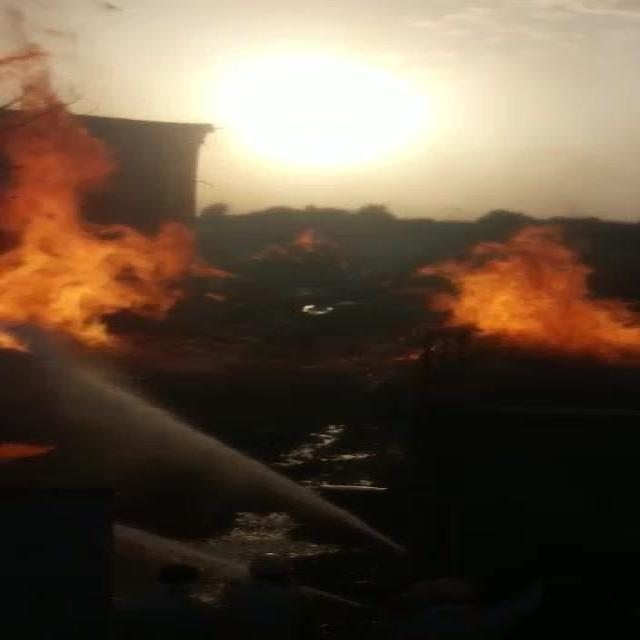fire: (0, 64, 209, 372), (439, 234, 640, 367)
